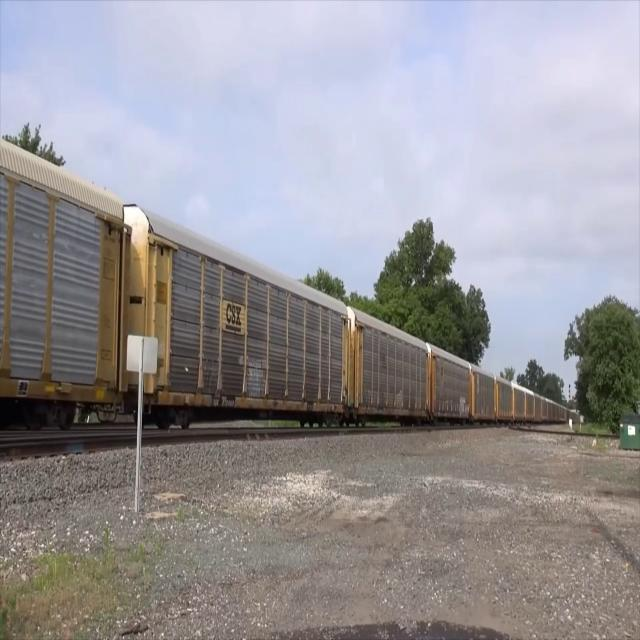autorack: (125, 198, 350, 432), (0, 126, 131, 440), (349, 304, 432, 434), (428, 339, 472, 426), (472, 362, 496, 425)
